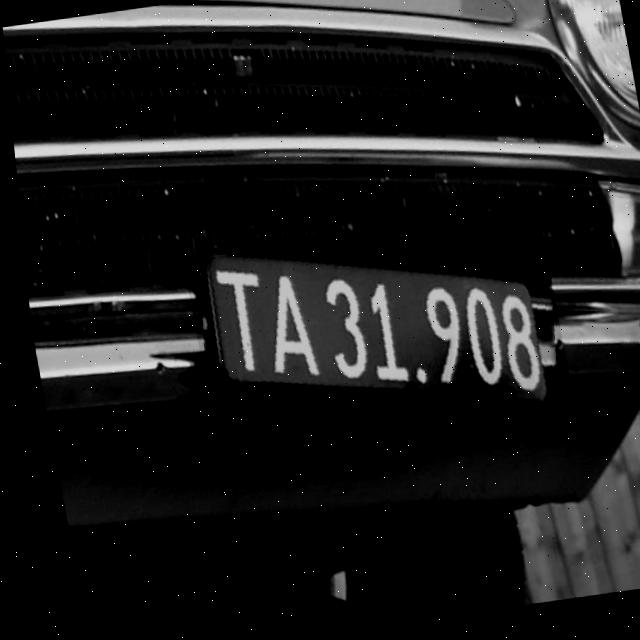LicensePlate: (175, 216, 567, 457)
